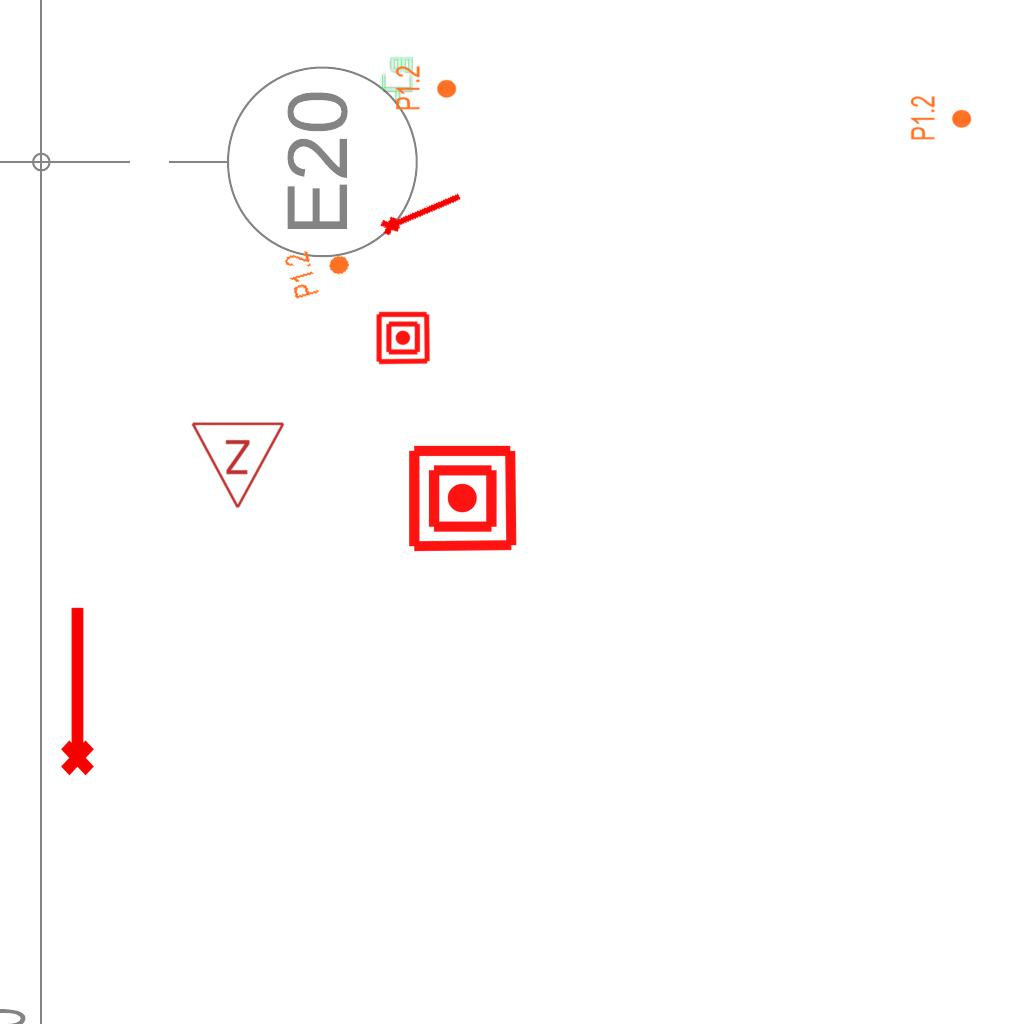ASR_Ansaugoeffnung: (52, 602, 98, 778), (376, 183, 466, 240)
Datenanschluss_zweifach: (381, 55, 415, 106)
Downlight_LED_Einbauleuchten_Flur: (281, 239, 357, 301), (909, 95, 973, 141), (394, 65, 458, 111)
NAM-Nichtautomatischer_Melder: (406, 442, 519, 555), (375, 310, 431, 366)
Zimmersignalleuchte: (190, 415, 288, 515)
